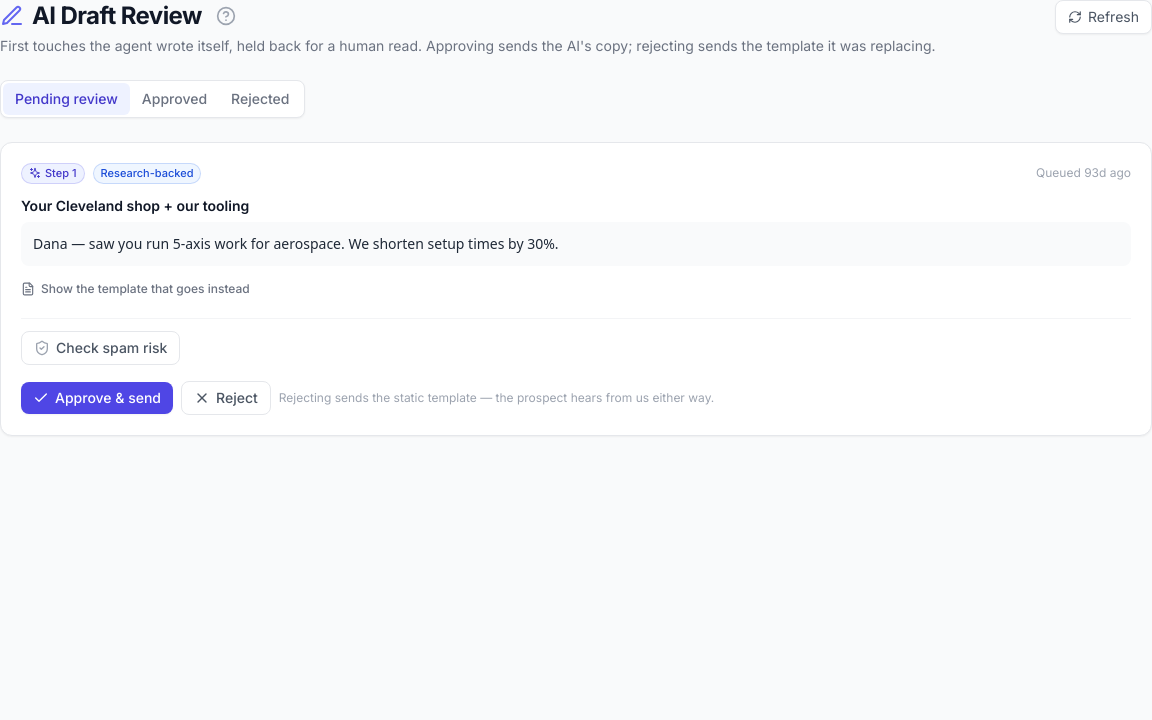
Scenario: AiDrafts page › holds an approval behind a confirm — approving sends a real cold email
Expected: the text "Your Cleveland shop + our tooling" is shown, [21,196,249,214]
What coordinates should you click on to do the following:
click the button "Approve & send"
I would click on:
 (97, 398)
Its box is [21,382,173,414].
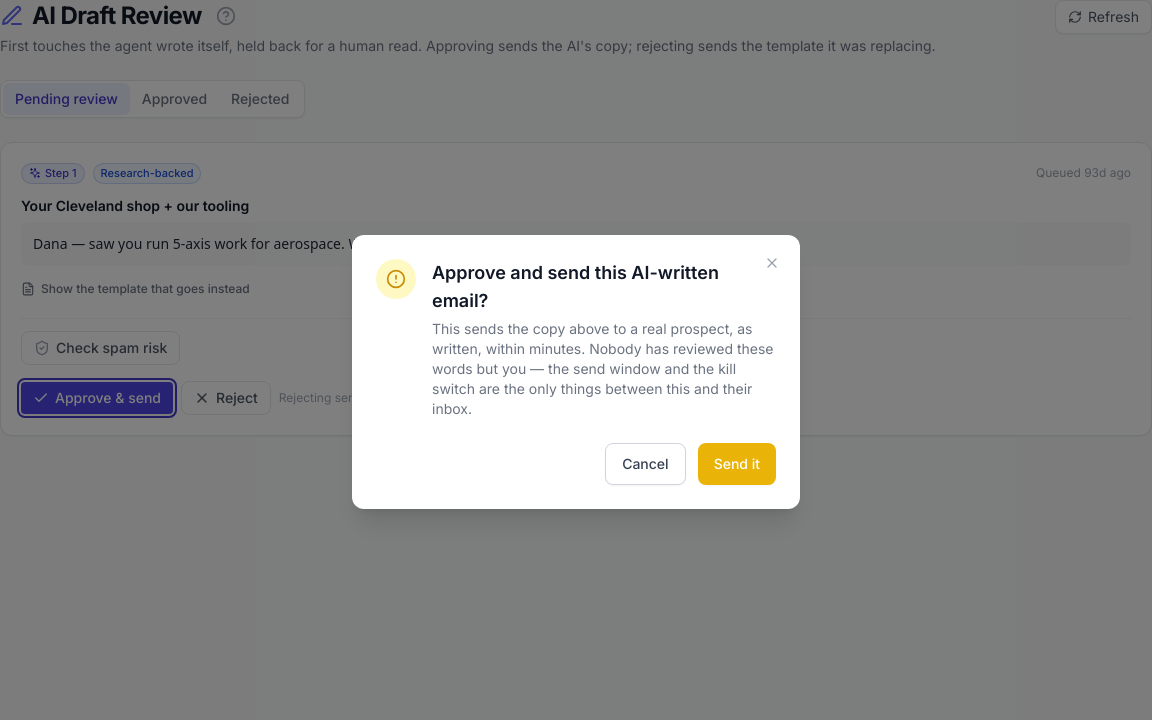
Expected: the text "sends the copy above to a real prospect" is shown, [432,320,774,417]
